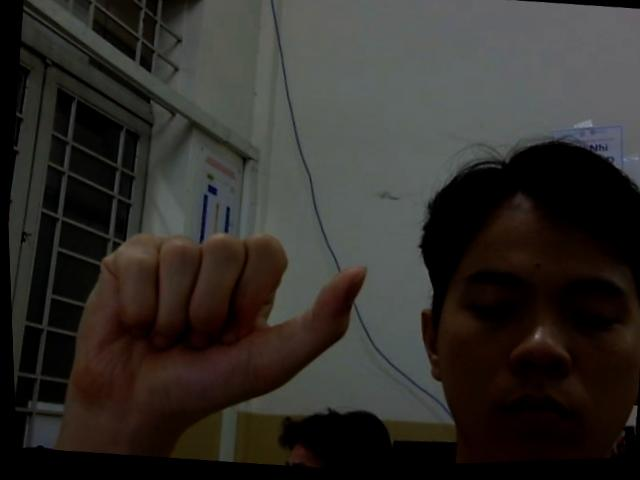A: (62, 213, 382, 432)
